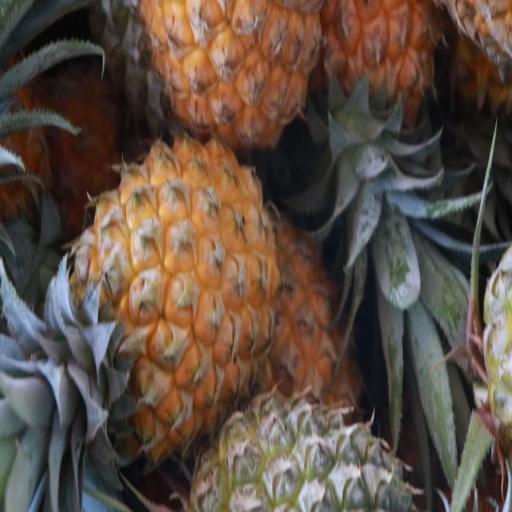Pineapple - v8 v1: (71, 138, 274, 463), (137, 0, 316, 152), (318, 0, 440, 189)
